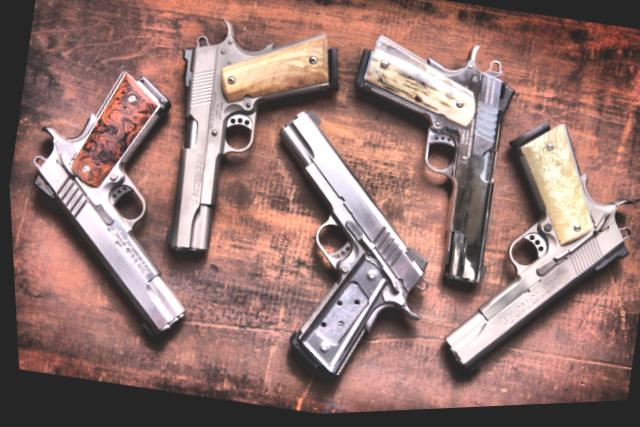pistol: (231, 105, 458, 409), (2, 54, 227, 351), (422, 106, 640, 408), (141, 8, 355, 285), (320, 28, 526, 302)
